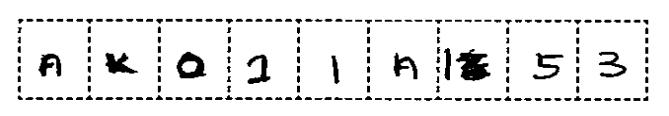0: (171, 47, 213, 85)
1: (318, 48, 352, 86), (440, 47, 458, 82)
2: (238, 50, 280, 88)
3: (590, 46, 631, 80)
5: (526, 47, 567, 84)
A: (385, 48, 424, 83), (32, 48, 70, 82)
K: (101, 47, 141, 81)
